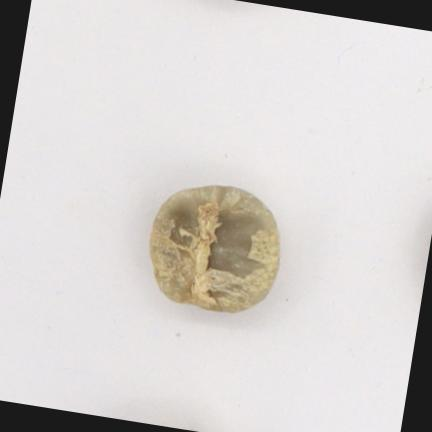immature: (150, 186, 280, 311), (181, 203, 222, 304)
